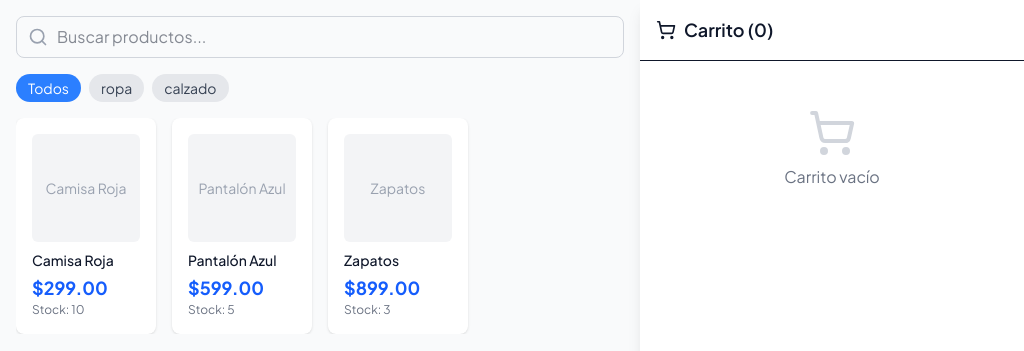
Test: SellerTerminal - Componente Principal › Búsqueda y filtrado › debe filtrar por categoría
The image size is (1024, 351).
Click the button "ropa".
click(117, 88)  # box [89,74,144,102]
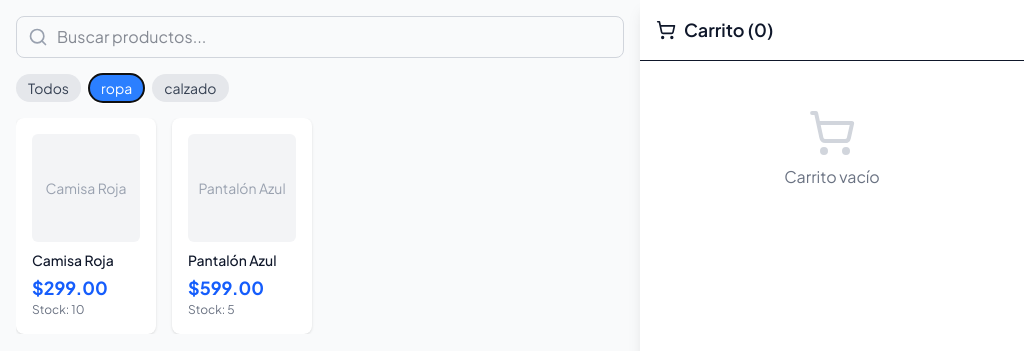
Expected: the text "Camisa Roja" is shown, [45,178,127,198]
Result: the text "Zapatos" is gone
